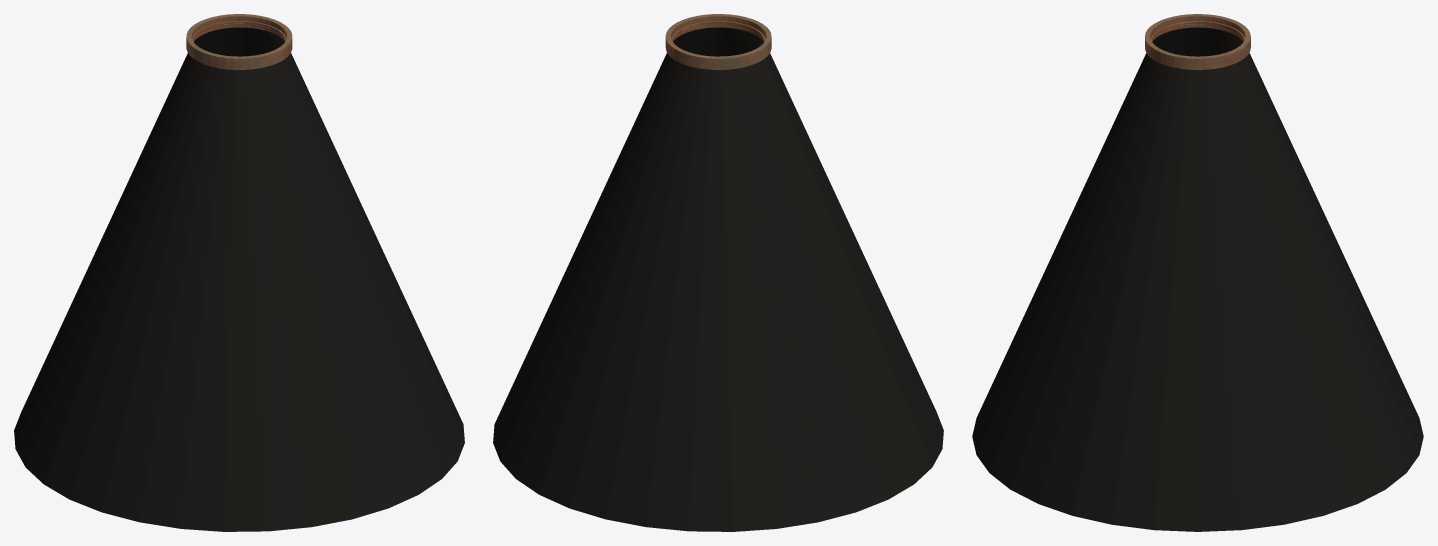
File: porthole_img.glb
The picture shows the model from 3 angles, left to right: view 1: azimuth 30°, elevation 25°; view 2: azimuth 150°, elevation 25°; view 3: azimuth 270°, elevation 25°; orthographic projection.
Parts seen in each view (by area): view 1: Circle, Object.1; view 2: Circle, Object.1; view 3: Circle, Object.1.
Part boxes in pixels (<box>): Circle: <box>14,27,464,531</box>; Object.1: <box>186,14,292,69</box>; Circle: <box>493,27,943,531</box>; Object.1: <box>665,14,771,69</box>; Circle: <box>972,27,1423,531</box>; Object.1: <box>1145,14,1250,69</box>.
Size of the model in its own units: 2.05 by 2 by 2.05.
4 materials, 3 textured.
